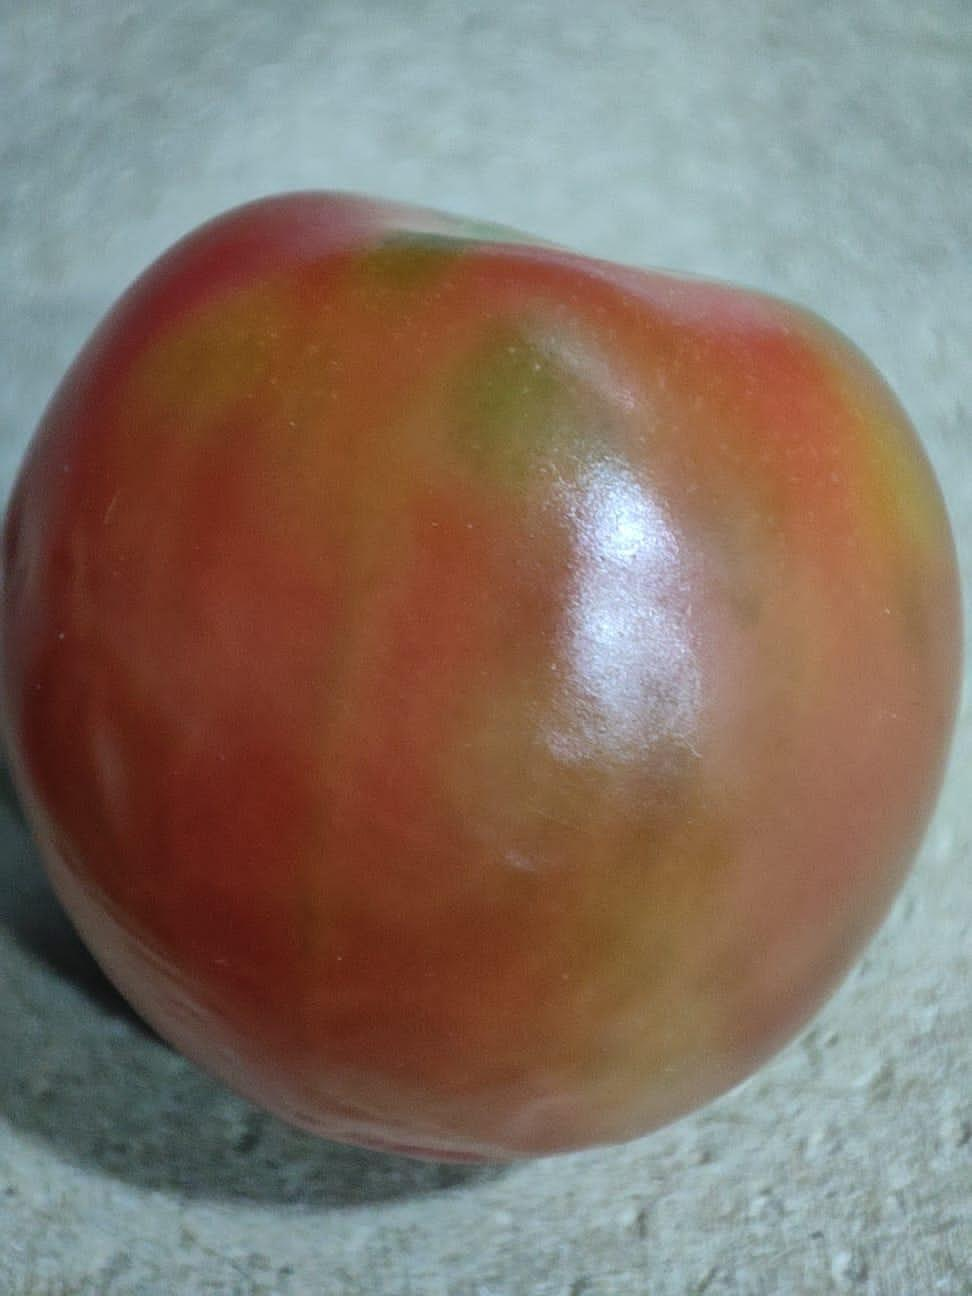Tomate Rugoso: (2, 191, 959, 1161)
